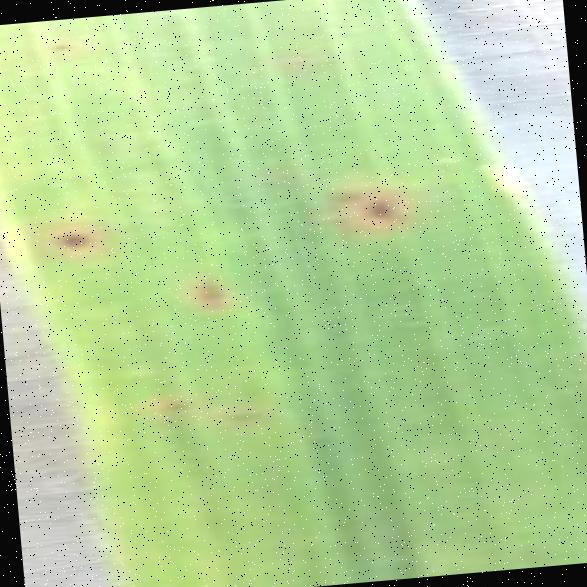Brown_Spot: (36, 214, 108, 262), (176, 265, 238, 319), (344, 185, 408, 230), (216, 398, 272, 434), (316, 175, 366, 210), (154, 390, 200, 419), (37, 32, 80, 59)
